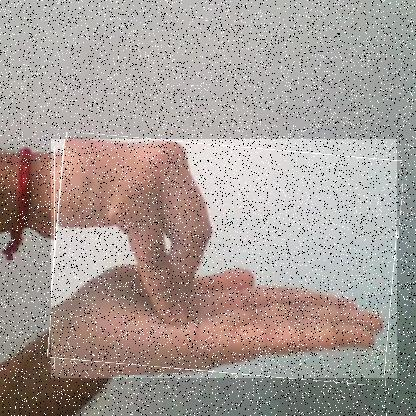Z: (52, 139, 400, 379)
